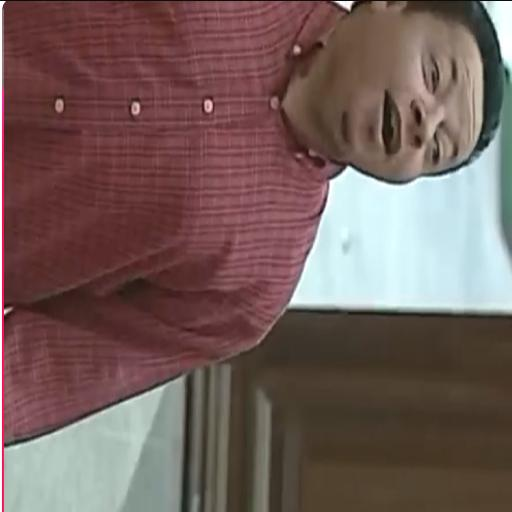fouchika: (328, 1, 506, 182)
